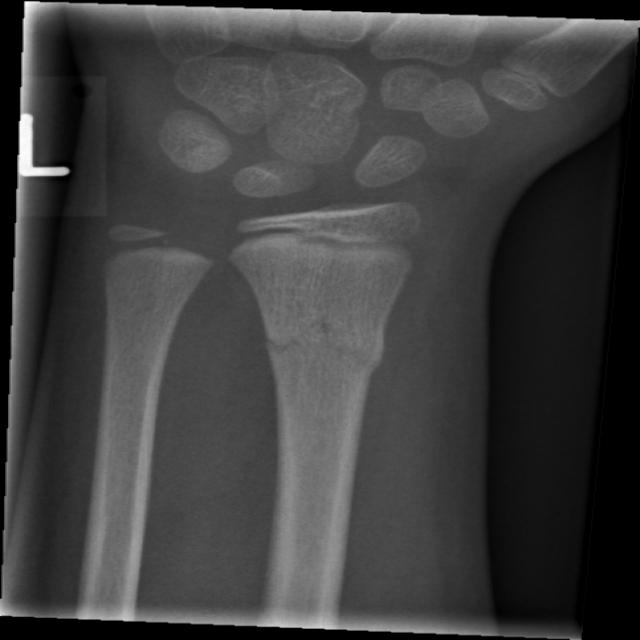radius fracture: (242, 276, 413, 425)
